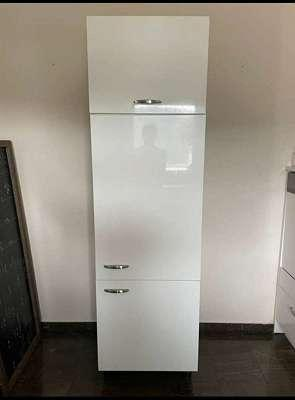cabinet_door: (93, 116, 204, 280), (91, 16, 209, 114), (96, 280, 198, 369)
handle: (127, 94, 166, 109), (102, 284, 132, 299), (103, 261, 132, 274)
